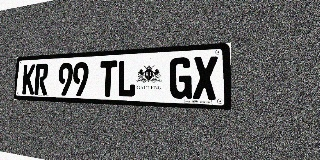9: (72, 62, 89, 96), (58, 62, 73, 96)
G: (169, 57, 192, 99)
K: (22, 64, 35, 94)
L: (117, 59, 136, 97)
R: (34, 63, 48, 95)
T: (99, 60, 117, 97)
X: (193, 56, 218, 100)
